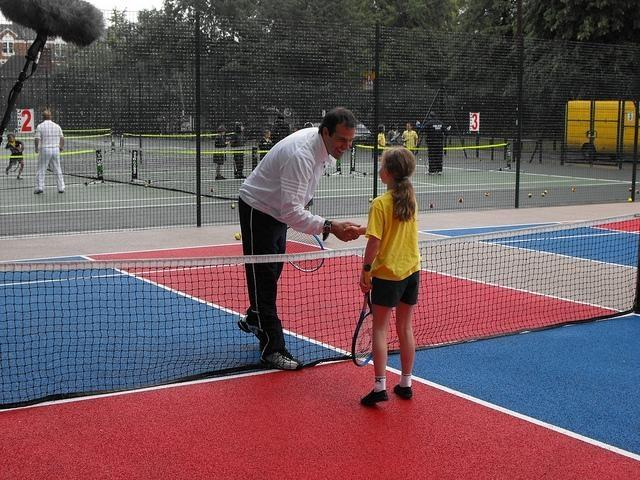truck: (563, 99, 640, 162)
